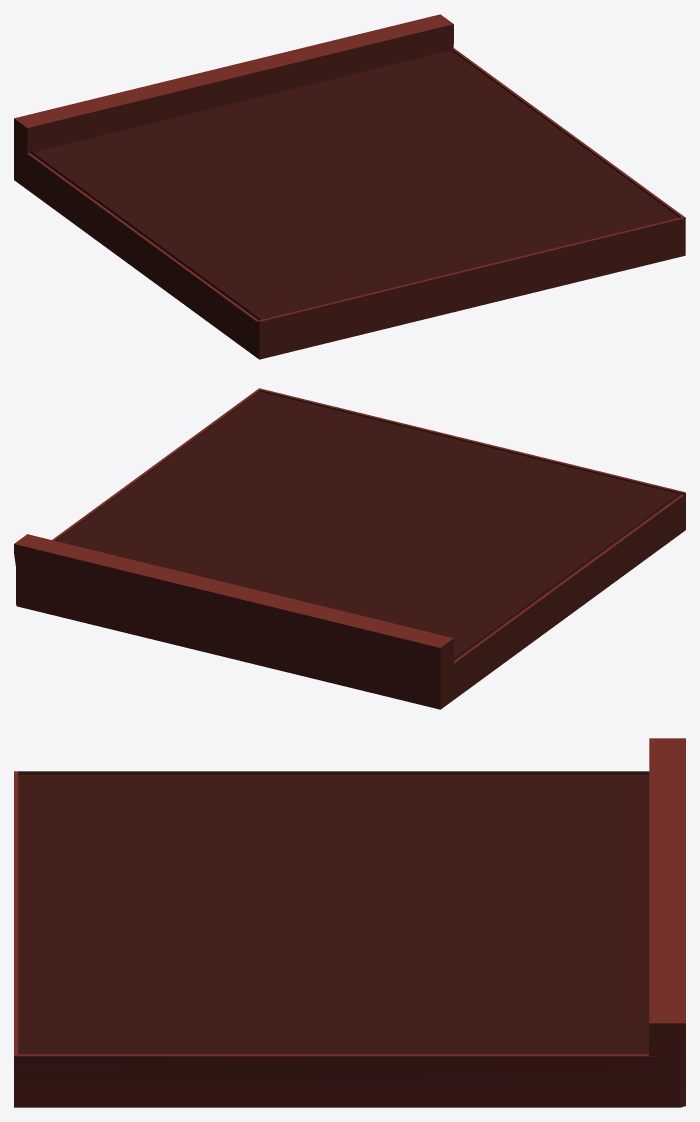
File: Cupcake Tray Sort - Board 2.fbx
3 renders of one model, top to bottom at view 1: azimuth 30°, elevation 25°; view 2: azimuth 150°, elevation 25°; view 3: azimuth 270°, elevation 25°, orthographic. The views are drawn at different scales.
Parts seen in each view (by area): view 1: board 2; view 2: board 2; view 3: board 2.
Boxes of the visible parts, x1=… form: board 2: x1=14, y1=14, x2=685, y2=359; board 2: x1=14, y1=388, x2=685, y2=709; board 2: x1=14, y1=738, x2=685, y2=1107.
Size of the model in its own units: 0.0999 by 0.0995 by 0.0138.
